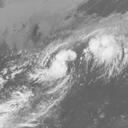cyclone: (28, 37, 90, 86)
